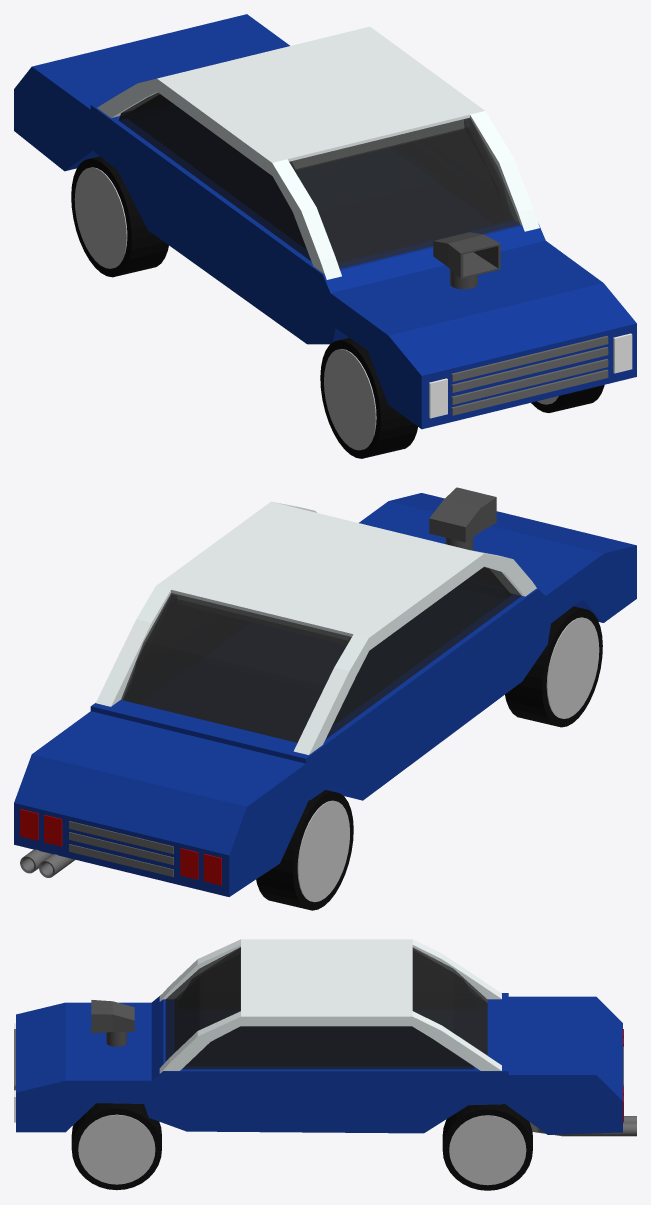
The model's file is classic-car.obj.
The picture shows the model from 3 angles, top to bottom: view 1: azimuth 30°, elevation 25°; view 2: azimuth 150°, elevation 25°; view 3: azimuth 270°, elevation 25°; orthographic projection. The views are drawn at different scales.
Visible parts, largest first — view 1: Cube_Cube.003, Cube.002_Cube.005, Cube.003_Cube.000, Cube.005_Cube.004, roda.002_Cylinder.004, roda.003_Cylinder.005, Cube.006_Cube.008, Cube.010_Cube.018, Cube.007_Cube.015, Cube.009_Cube.017, Cube.008_Cube.016, roda.001_Cylinder.002 (+3 smaller); view 2: Cube_Cube.003, Cube.002_Cube.005, Cube.001, Cube.005_Cube.004, roda.003_Cylinder.005, roda.002_Cylinder.004, Cube.006_Cube.008, Cylinder.001_Cylinder.007, Cube.018_Cube.026, Cube.017_Cube.025, Cube.016_Cube.024; view 3: Cube_Cube.003, Cube.002_Cube.005, Cube.004_Cube.002, roda.001_Cylinder.002, roda.000_Cylinder.000, Cube.003_Cube.000, Cube.001, Cube.006_Cube.008, Cylinder.001_Cylinder.007.
Boxes of the visible parts, <box> form: Cube_Cube.003: <box>14,14,636,429</box>; Cube.002_Cube.005: <box>97,26,539,279</box>; Cube.003_Cube.000: <box>289,117,520,268</box>; Cube.005_Cube.004: <box>118,92,311,261</box>; roda.002_Cylinder.004: <box>71,156,168,277</box>; roda.003_Cylinder.005: <box>320,338,417,458</box>; Cube.006_Cube.008: <box>433,232,500,278</box>; Cube.010_Cube.018: <box>451,369,608,415</box>; Cube.007_Cube.015: <box>451,336,608,381</box>; Cube.009_Cube.017: <box>451,359,608,404</box>; Cube.008_Cube.016: <box>451,347,608,392</box>; roda.001_Cylinder.002: <box>531,385,604,412</box>; Cube_Cube.003: <box>14,493,636,896</box>; Cube.002_Cube.005: <box>96,501,536,754</box>; Cube.001: <box>121,593,351,742</box>; Cube.005_Cube.004: <box>315,566,521,739</box>; roda.003_Cylinder.005: <box>505,606,602,727</box>; roda.002_Cylinder.004: <box>256,790,353,910</box>; Cube.006_Cube.008: <box>429,487,496,542</box>; Cylinder.001_Cylinder.007: <box>20,849,75,877</box>; Cube.018_Cube.026: <box>69,821,173,853</box>; Cube.017_Cube.025: <box>69,832,173,864</box>; Cube.016_Cube.024: <box>69,844,173,876</box>; Cube_Cube.003: <box>16,993,622,1134</box>; Cube.002_Cube.005: <box>159,939,501,1073</box>; Cube.004_Cube.002: <box>182,1026,474,1069</box>; roda.001_Cylinder.002: <box>71,1103,161,1190</box>; roda.000_Cylinder.000: <box>442,1103,532,1190</box>; Cube.003_Cube.000: <box>165,947,240,1061</box>; Cube.001: <box>412,947,487,1055</box>; Cube.006_Cube.008: <box>91,1000,134,1033</box>; Cylinder.001_Cylinder.007: <box>529,1116,636,1136</box>.
Size of the model in its own units: 1.63 by 1.57 by 5.17.
